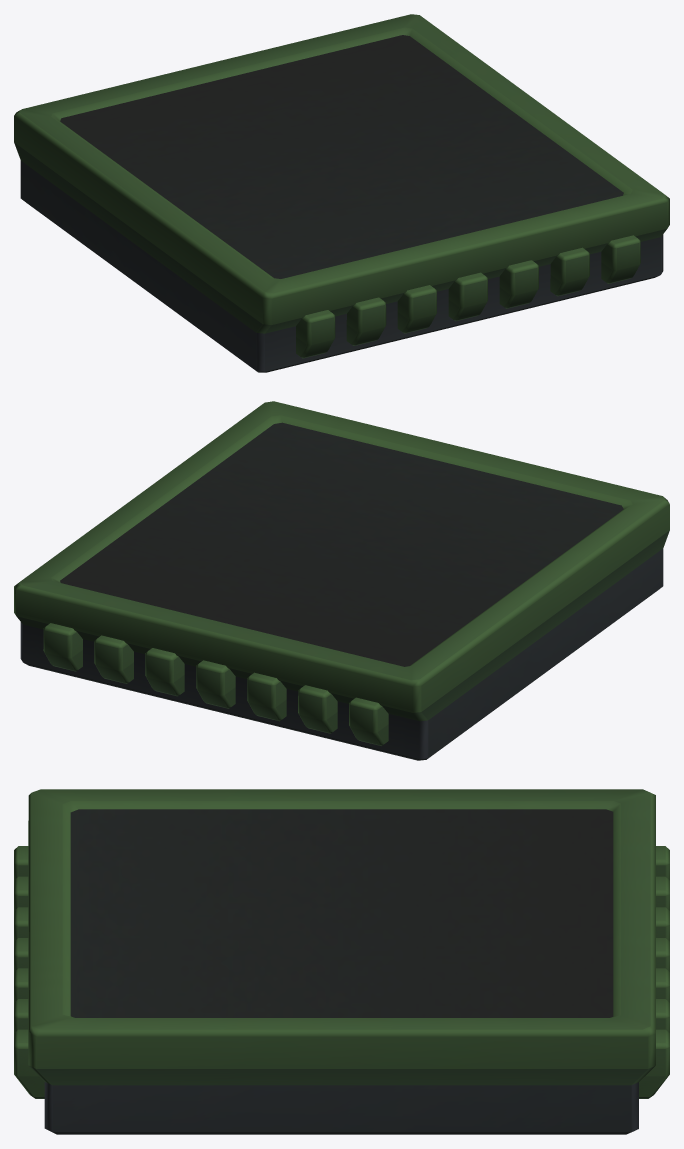
File: appartment_type1_roof_type2_x4_flat_brown.fbx
3 renders of one model, top to bottom at view 1: azimuth 30°, elevation 25°; view 2: azimuth 150°, elevation 25°; view 3: azimuth 270°, elevation 25°, orthographic. The views are drawn at different scales.
Parts seen in each view (by area): view 1: appartment_type1_roof_type2_x4_flat_brown; view 2: appartment_type1_roof_type2_x4_flat_brown; view 3: appartment_type1_roof_type2_x4_flat_brown.
Boxes of the visible parts, left/top/right/bottom form: appartment_type1_roof_type2_x4_flat_brown: left=14, top=14, right=669, bottom=372; appartment_type1_roof_type2_x4_flat_brown: left=14, top=401, right=669, bottom=760; appartment_type1_roof_type2_x4_flat_brown: left=14, top=789, right=669, bottom=1134.
Size of the model in its own units: 800 by 160 by 907.
